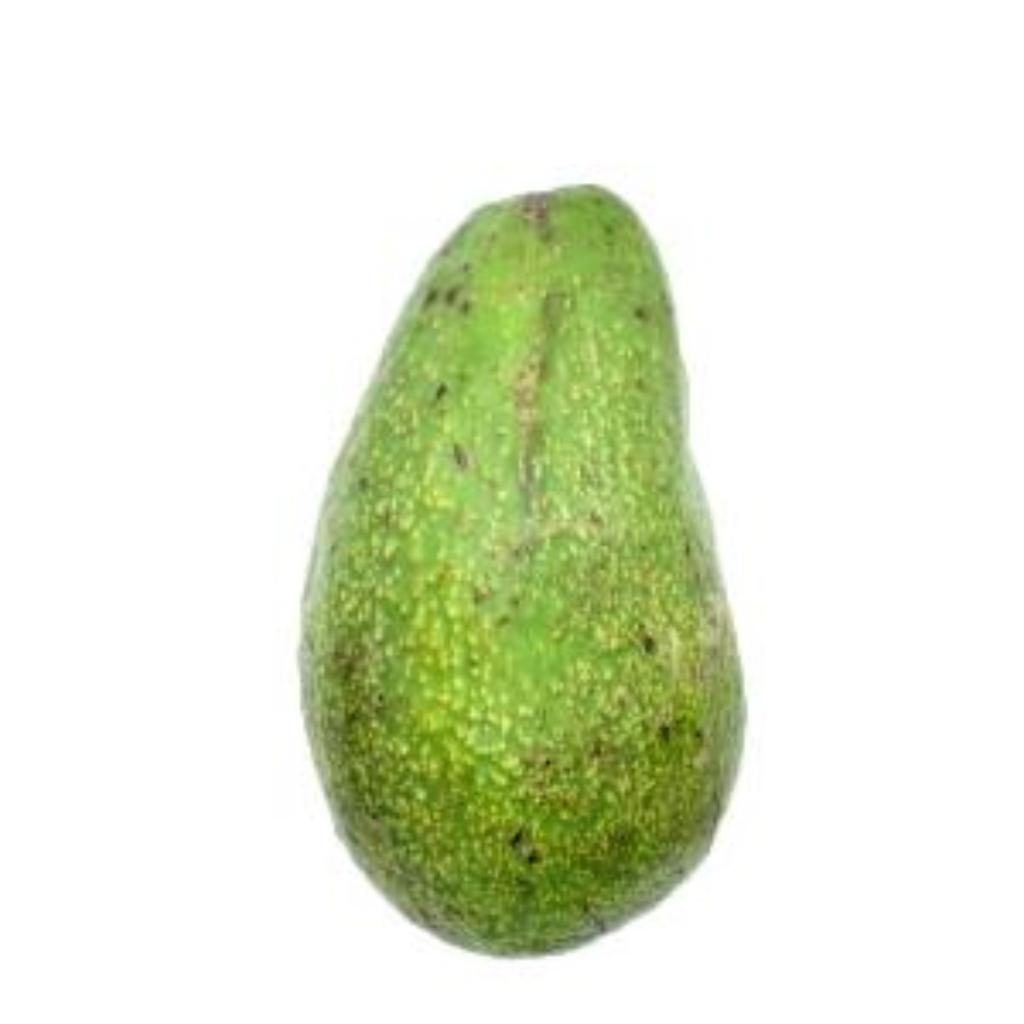cercospora: (291, 143, 751, 963)
